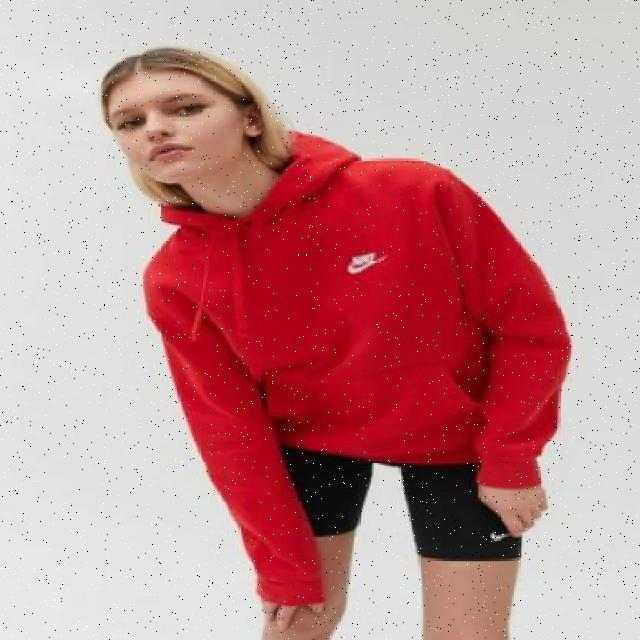Nike: (344, 251, 388, 274), (490, 530, 508, 538)
